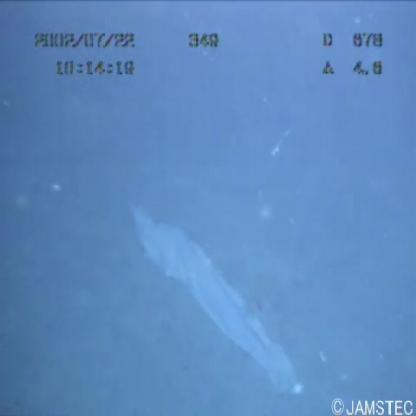Rác: (122, 198, 321, 406)
